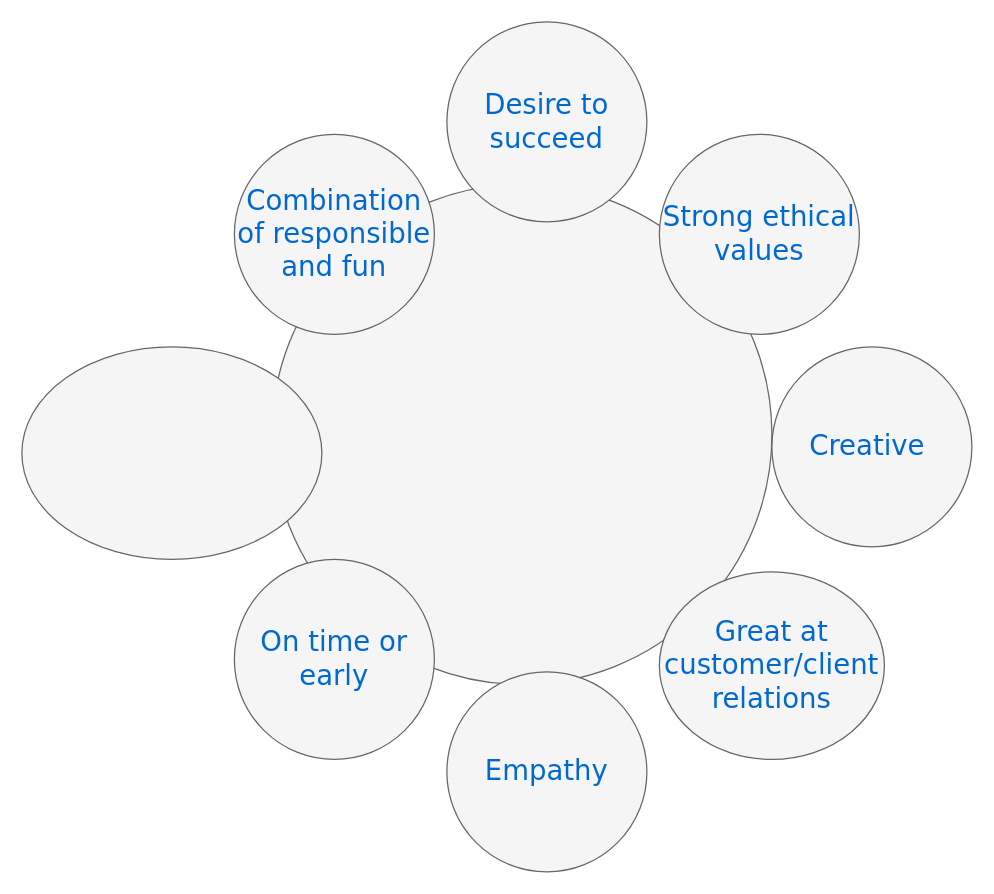
The diagram is 994 pixels wide and 894 high, and some of its shapes have lost their labels. The shapes that lost their labels are listed below. From the top down, each one's box as (x1, y1, x2, y2) in pixels, then its label:
(21, 346, 322, 559): Good team player/collaboration and compromise
(271, 183, 772, 684): What I can bring to the tech industry
